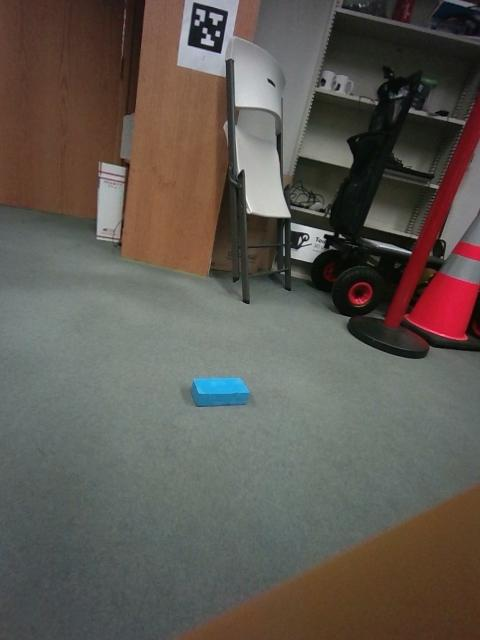block: (66, 285, 100, 358)
